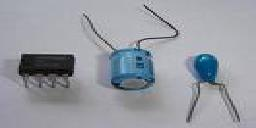Electrolytic-Capacitor: (81, 4, 179, 96), (187, 52, 241, 127), (15, 48, 82, 89)
